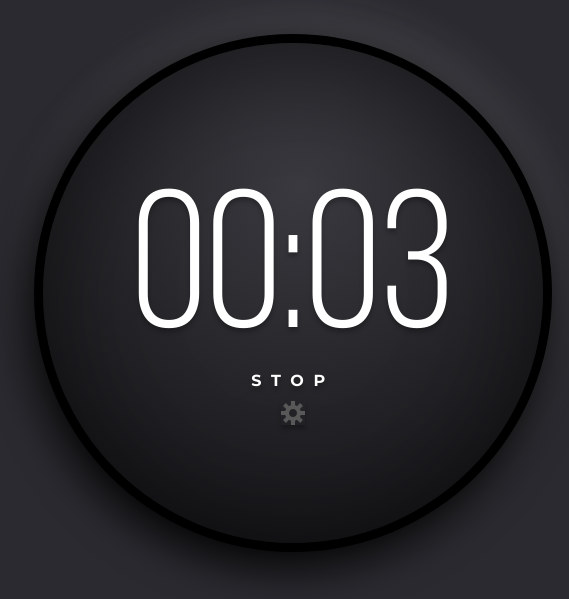
it: Переключение кнопок › При нажатии на кнопку "Stop", на ее месте появляется кнопка "Start"
Click the button with test id "button-start-toggle". click: {"x": 293, "y": 381}
box: x1=251 y1=371 x2=335 y2=391
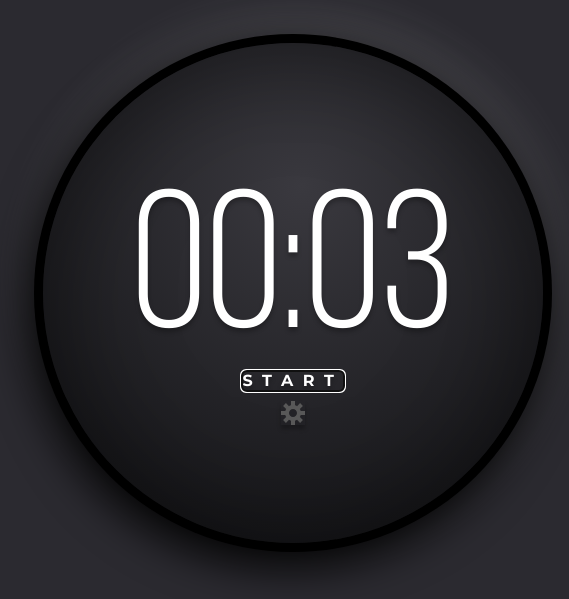
Expected: the button with test id "button-start-toggle" reads "Start", x1=242 y1=371 x2=344 y2=391
